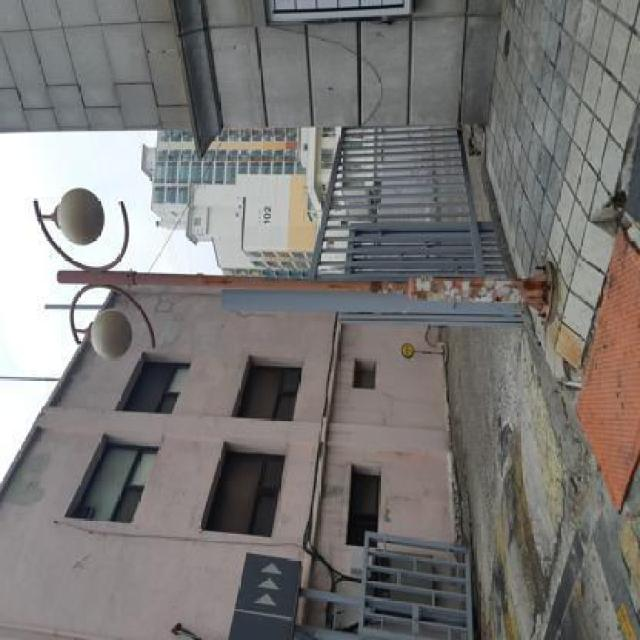fence: (324, 124, 490, 263)
pole: (154, 244, 568, 322)
